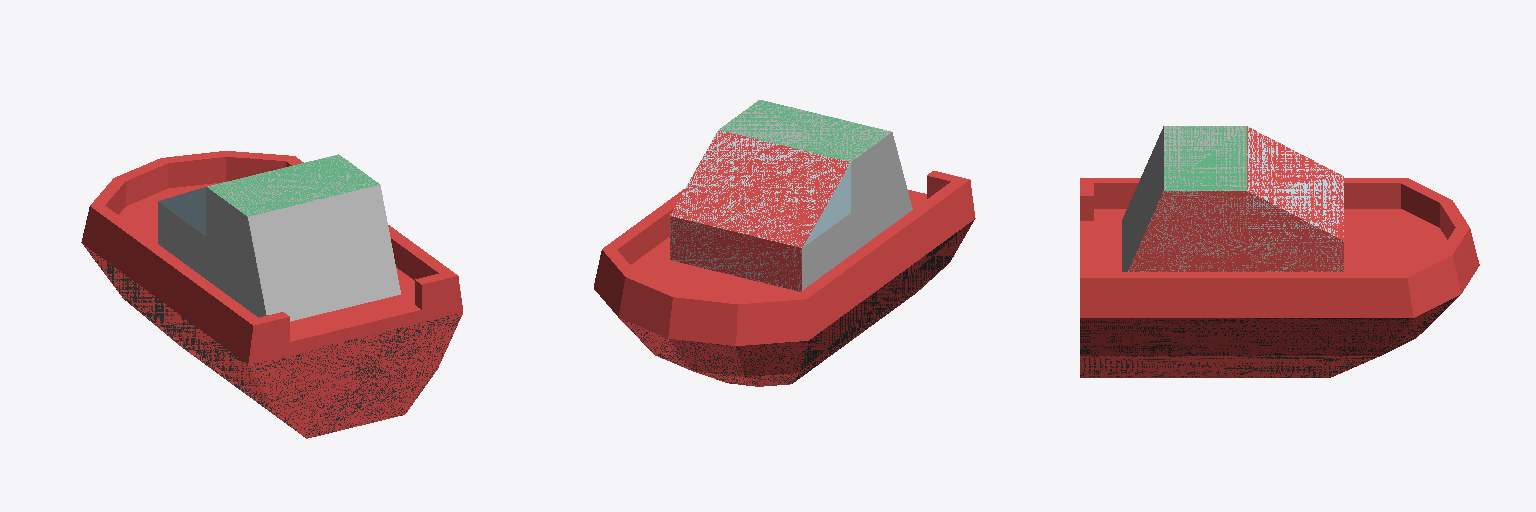
File: boat_007.obj
3 renders of one model, left to right at view 1: azimuth 30°, elevation 25°; view 2: azimuth 150°, elevation 25°; view 3: azimuth 270°, elevation 25°, orthographic.
Visible parts, largest first — view 1: boat_007; view 2: boat_007; view 3: boat_007.
Boxes of the visible parts, x1,y1,x2,y2 form: boat_007: [81, 151, 462, 438]; boat_007: [594, 100, 975, 386]; boat_007: [1080, 126, 1479, 377].
Size of the model in its own units: 1.78 by 1.55 by 2.87.